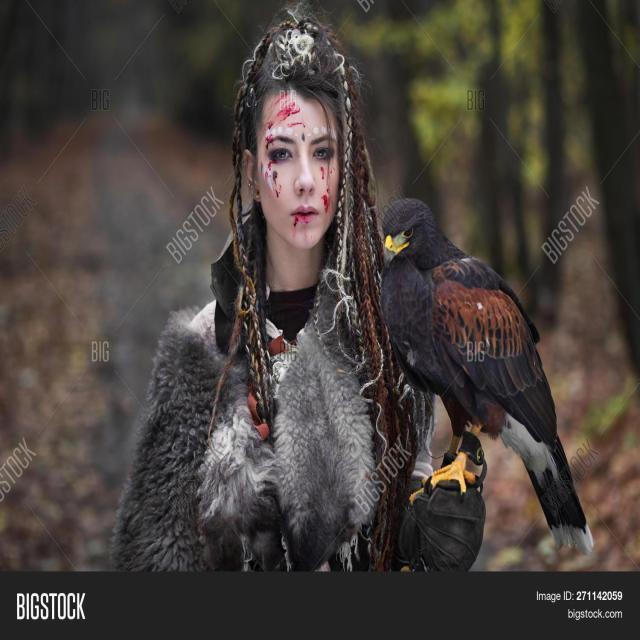flood: (262, 93, 341, 230)
